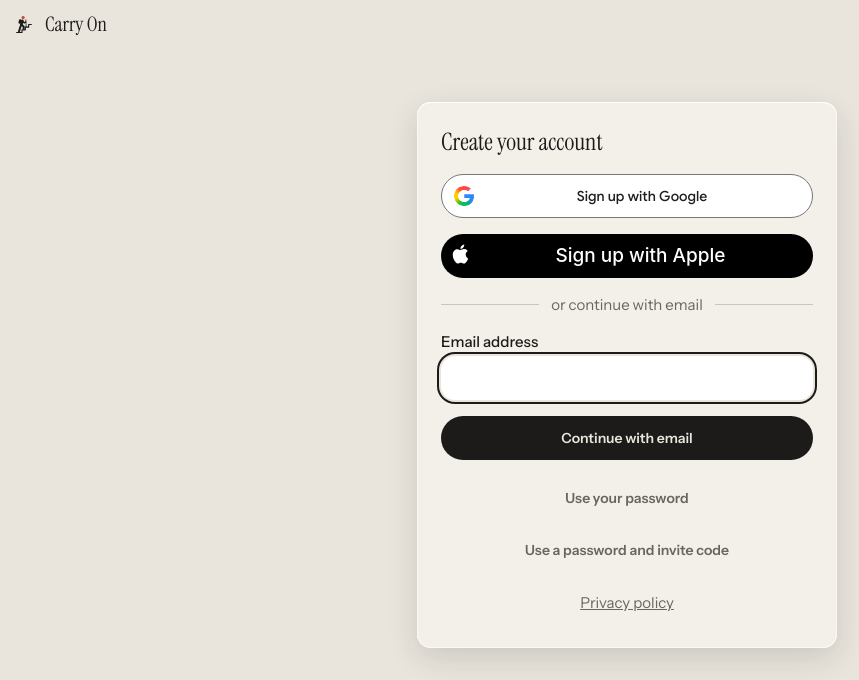
SignupPage › labels both configured providers for account creation and retains password access
This screenshot has width=859, height=680.
Expected: the button "Sign up with Google" is enabled, [441,174,813,218]
Expected: the button "Sign up with Apple" is enabled, [441,234,813,278]
Click the button "Use a password and invite code" at x=627, y=550, box [441,528,813,572]
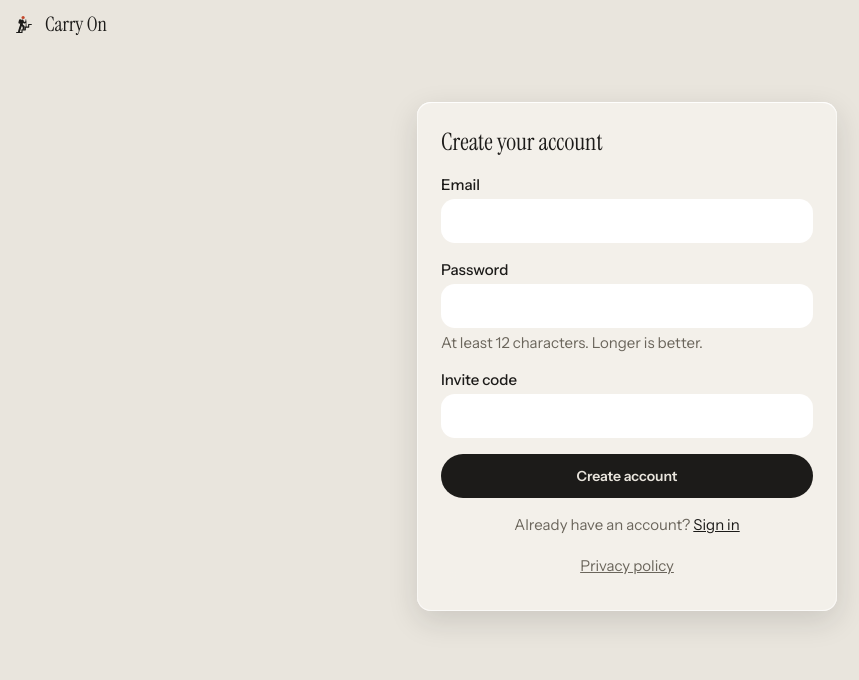
Expected: the button "Sign up with Google" is gone
